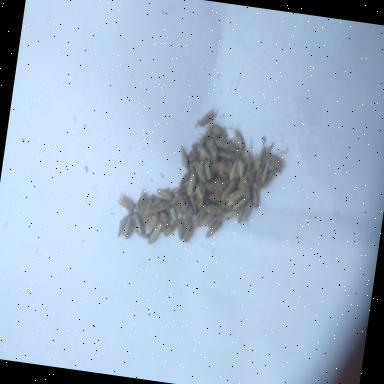pbw: (174, 192, 194, 218), (258, 152, 273, 186), (146, 218, 164, 246), (239, 166, 258, 192), (201, 136, 220, 162), (226, 156, 243, 185), (204, 172, 226, 194), (258, 139, 274, 168), (225, 186, 246, 208), (193, 144, 215, 164), (190, 160, 208, 184), (213, 134, 234, 154), (189, 185, 208, 207), (199, 156, 215, 182), (236, 198, 252, 224), (230, 128, 246, 154), (239, 148, 256, 172), (219, 178, 236, 202), (204, 218, 222, 240), (196, 106, 214, 128), (130, 212, 148, 234), (184, 170, 198, 198), (144, 210, 159, 236), (249, 152, 264, 178), (194, 198, 210, 222), (116, 194, 136, 213), (154, 186, 176, 202), (218, 206, 237, 224), (163, 218, 180, 238), (264, 157, 284, 174), (234, 160, 248, 184), (176, 147, 190, 170), (233, 192, 249, 212), (183, 221, 197, 243), (197, 210, 214, 228), (150, 198, 169, 214), (116, 214, 128, 238), (134, 188, 146, 212), (249, 186, 261, 209), (124, 218, 136, 240), (205, 204, 225, 216), (137, 196, 149, 216), (176, 218, 186, 241), (144, 192, 155, 212), (182, 212, 192, 233), (160, 214, 170, 234), (133, 228, 149, 240), (206, 212, 218, 228), (167, 206, 178, 222), (216, 150, 234, 159), (207, 192, 223, 202)
